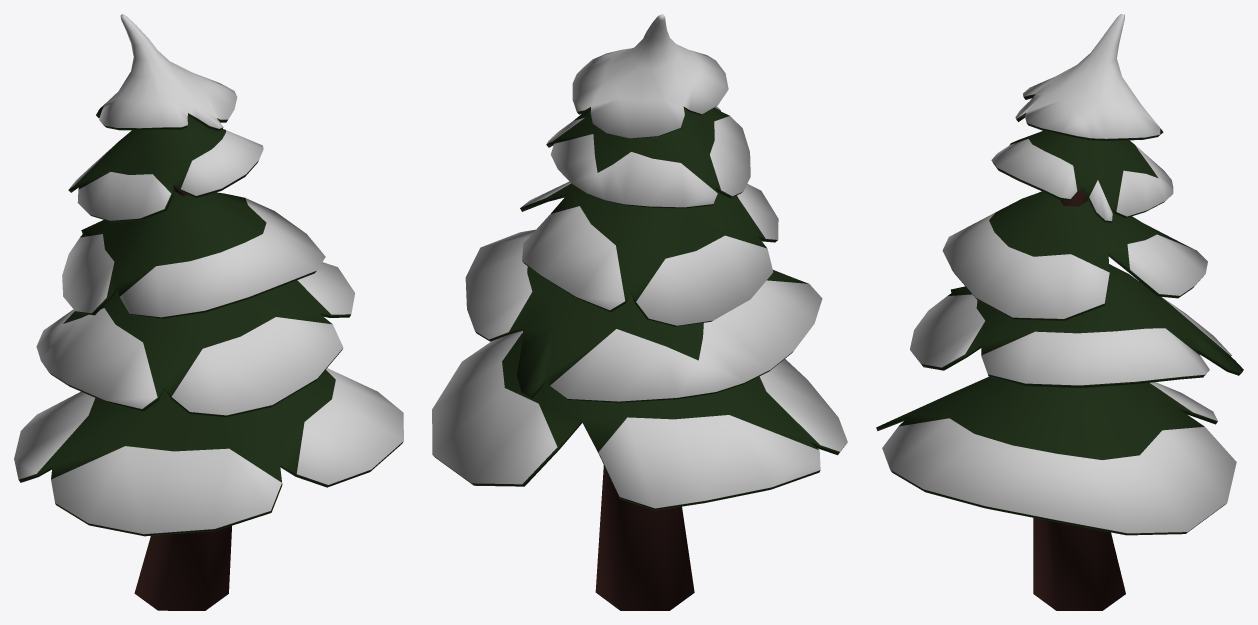
Rendered from PineTree_Snow_1.fbx.
The picture shows the model from 3 angles, left to right: view 1: azimuth 30°, elevation 25°; view 2: azimuth 150°, elevation 25°; view 3: azimuth 270°, elevation 25°; orthographic projection. The views are drawn at different scales.
Parts seen in each view (by area): view 1: PineTree_Snow_1; view 2: PineTree_Snow_1; view 3: PineTree_Snow_1.
Part boxes in pixels (<box>): PineTree_Snow_1: <box>14,14,403,610</box>; PineTree_Snow_1: <box>432,14,847,610</box>; PineTree_Snow_1: <box>876,14,1243,610</box>.
Bounding box in the file's own units: 715 × 663 × 1118.
